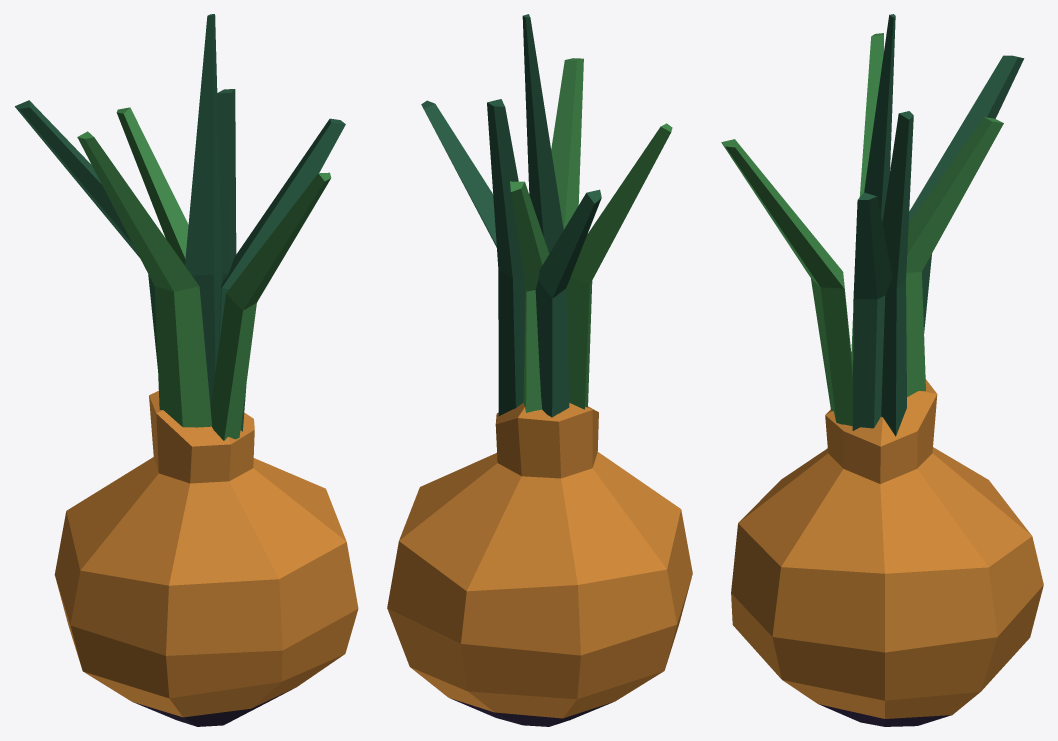
Rendered from Onion_L.fbx.
The picture shows the model from 3 angles, left to right: view 1: azimuth 30°, elevation 25°; view 2: azimuth 150°, elevation 25°; view 3: azimuth 270°, elevation 25°; orthographic projection.
Visible parts, largest first — view 1: Onion_L; view 2: Onion_L; view 3: Onion_L.
Part boxes in pixels (x1,y1,x2,y2): Onion_L: (15, 14, 358, 726); Onion_L: (387, 14, 692, 726); Onion_L: (721, 14, 1043, 726).
Bounding box in the file's own units: 23.16 × 56.85 × 23.69.
